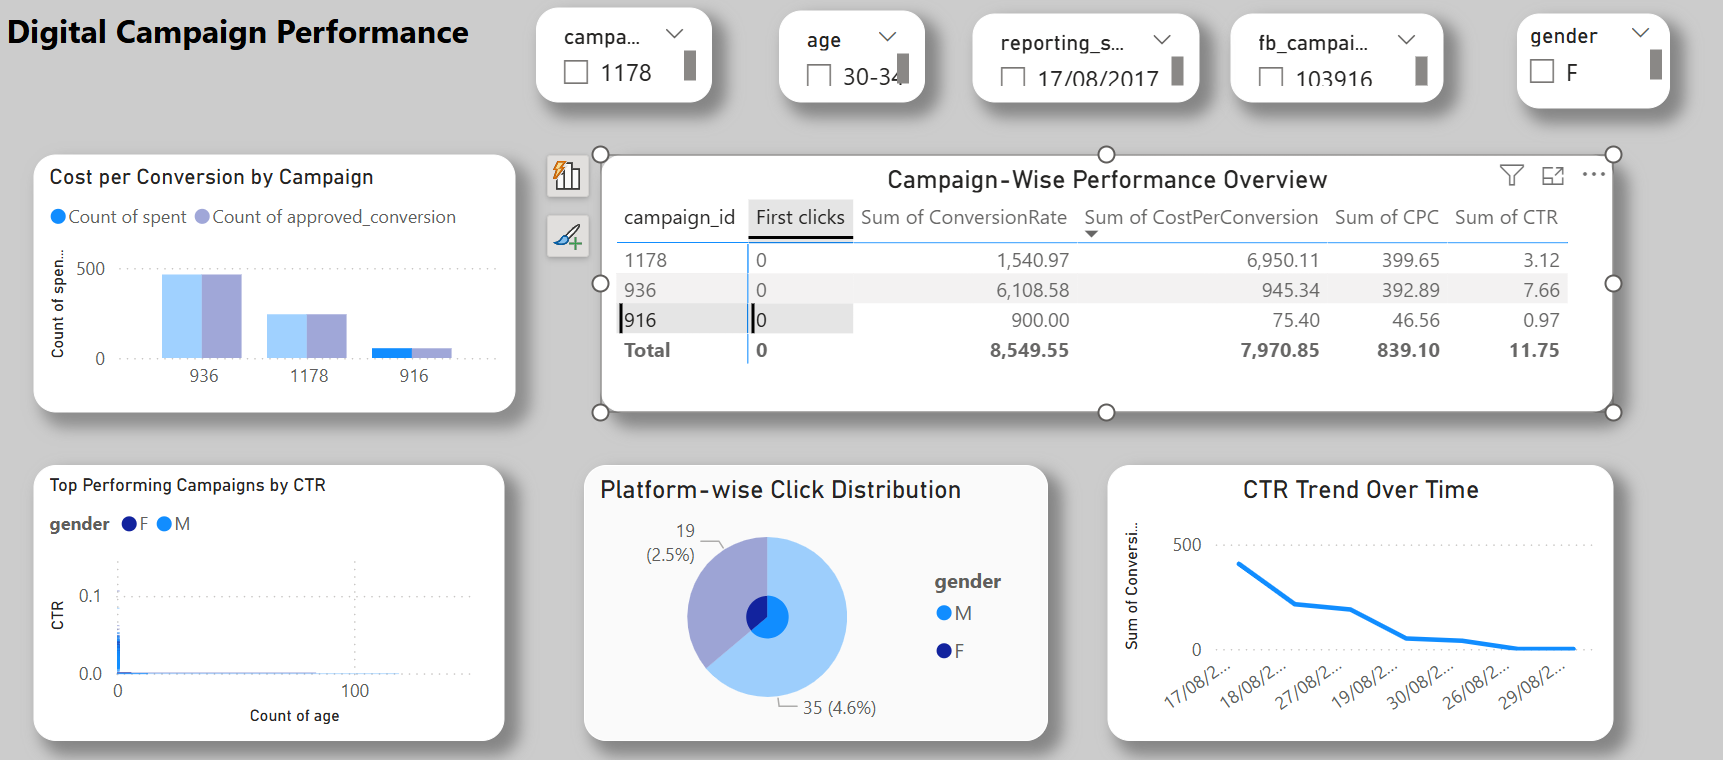

What the dashboard file says about the page in this screenshot:
{"tool":"powerbi","page":{"name":"Page 1","canvas":[1280,720],"ordinal":0},"visuals":[{"type":"clusteredBarChart","title":"Top Performing Campaigns by CTR","fields":{"Y":["CountNonNull(data.age)"],"Category":["data.CTR"],"Series":["data.gender"]},"box":[23,310,314,184],"z":1000},{"type":"clusteredColumnChart","title":"Cost per Conversion by Campaign","fields":{"Category":["data.campaign_id"],"Y":["CountNonNull(data.spent)","CountNonNull(data.approved_conversion)"]},"box":[23,103,321,172],"z":2000},{"type":"lineChart","title":"CTR Trend Over Time","fields":{"Category":["data.reporting_start"],"Y":["Sum(data.ConversionRate)"]},"box":[739,310,337,184],"z":3000},{"type":"pieChart","title":"Platform-wise Click Distribution","fields":{"Category":["data.gender"],"Y":["CountNonNull(data.clicks)"]},"box":[390,310,309,184],"z":4000},{"type":"pivotTable","title":"Campaign-Wise Performance Overview","fields":{"Rows":["data.campaign_id"],"Values":["Min(data.clicks)","Sum(data.ConversionRate)","Sum(data.CostPerConversion)","Sum(data.CPC)","Sum(data.CTR)"]},"box":[401,103,675,172],"z":5000},{"type":"slicer","fields":{"Values":["data.age"]},"box":[520,7,97,61],"z":6000},{"type":"slicer","fields":{"Values":["data.gender"]},"box":[1012,9,102,63],"z":7000},{"type":"slicer","fields":{"Values":["data.fb_campaign_id"]},"box":[821,9,142,59],"z":8000},{"type":"slicer","fields":{"Values":["data.campaign_id"]},"box":[358,5,117,63],"z":9000},{"type":"slicer","fields":{"Values":["data.reporting_start"]},"box":[649,9,151,59],"z":10000},{"type":"textbox","box":[0,0,325,41],"z":11000}]}

Visuals, with their boxes on the page's 1280x720 design canvas (x1, y1, x2, y2). These are canvas units, not pixel positions in the 1723x760 screenshot, which may show the page scaled, cropped or inside an application window:
"Top Performing Campaigns by CTR" clusteredBarChart: {"left": 23, "top": 310, "right": 337, "bottom": 494}
"Cost per Conversion by Campaign" clusteredColumnChart: {"left": 23, "top": 103, "right": 344, "bottom": 275}
"CTR Trend Over Time" lineChart: {"left": 739, "top": 310, "right": 1076, "bottom": 494}
"Platform-wise Click Distribution" pieChart: {"left": 390, "top": 310, "right": 699, "bottom": 494}
"Campaign-Wise Performance Overview" pivotTable: {"left": 401, "top": 103, "right": 1076, "bottom": 275}
slicer - data.age: {"left": 520, "top": 7, "right": 617, "bottom": 68}
slicer - data.gender: {"left": 1012, "top": 9, "right": 1114, "bottom": 72}
slicer - data.fb_campaign_id: {"left": 821, "top": 9, "right": 963, "bottom": 68}
slicer - data.campaign_id: {"left": 358, "top": 5, "right": 475, "bottom": 68}
slicer - data.reporting_start: {"left": 649, "top": 9, "right": 800, "bottom": 68}
textbox: {"left": 0, "top": 0, "right": 325, "bottom": 41}
